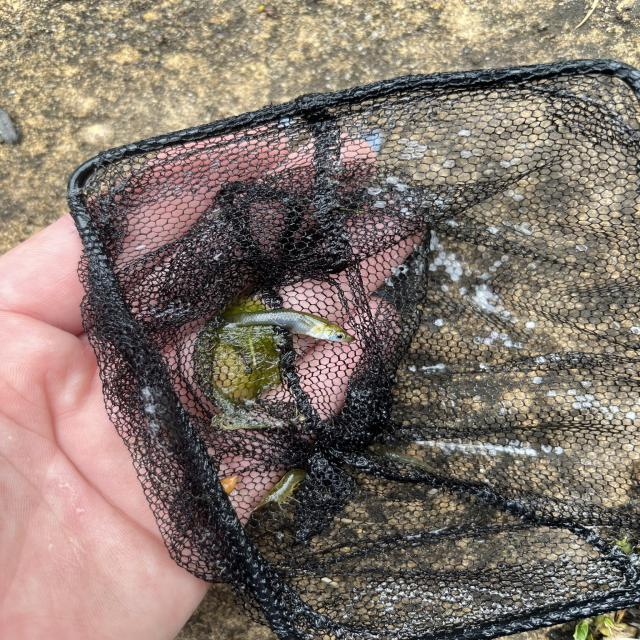Sivrisinek Baligi: (229, 305, 354, 349)
